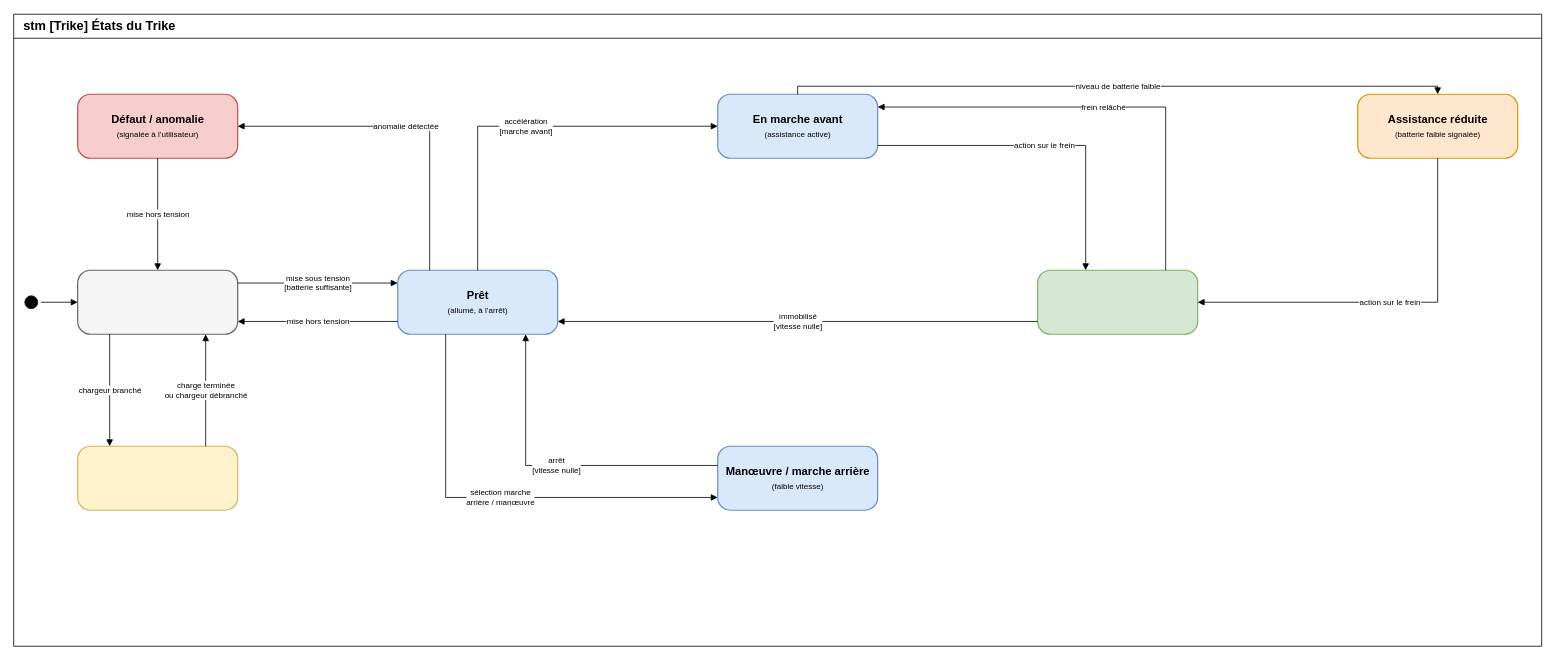
This 1556x660 diagram has some shape labels left out. Each missing label, with the centre of its shape:
"En charge (batterie en recharge)" goes at point 157,477.
"Freinage (ralentissement / immobilisation)" goes at point 1117,301.
"Éteint (hors tension)" goes at point 157,301.
